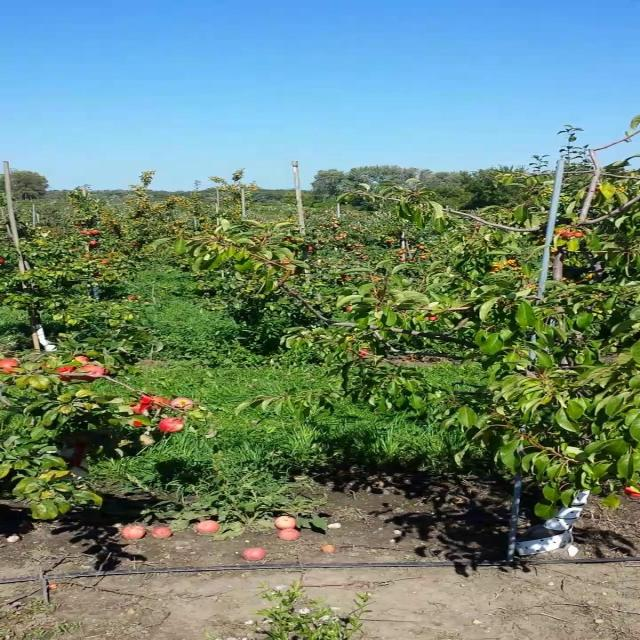apple: (77, 364, 107, 381), (56, 368, 78, 383), (163, 420, 185, 433), (148, 396, 171, 408), (170, 400, 194, 411), (141, 396, 162, 407), (6, 360, 21, 374), (134, 404, 151, 416), (77, 356, 92, 364), (568, 232, 583, 239), (134, 420, 144, 428)
